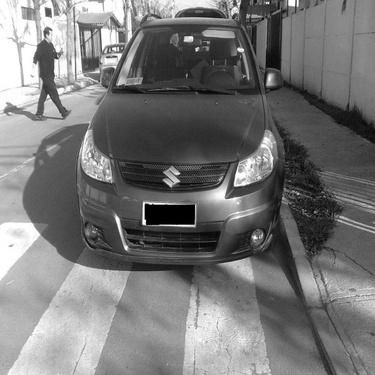car: (51, 6, 294, 274), (94, 36, 132, 79)
